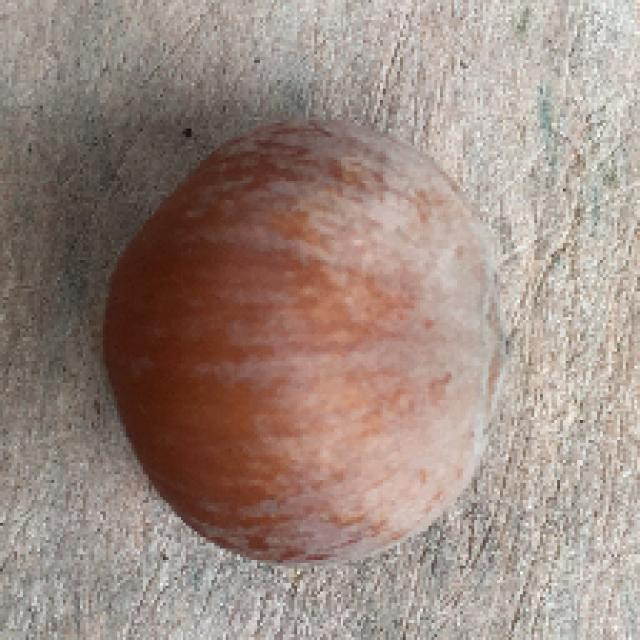qualityHazelnut: (92, 115, 521, 573)
